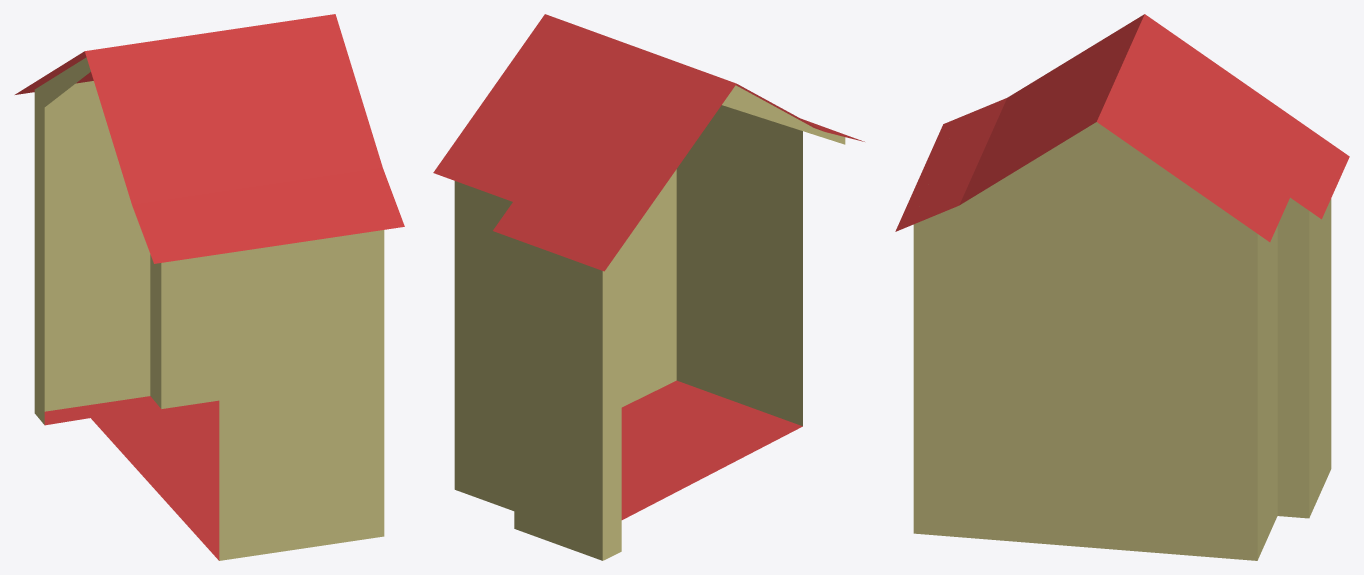
3 views of the same model, side by side, from view 1: azimuth 30°, elevation 25°; view 2: azimuth 150°, elevation 25°; view 3: azimuth 270°, elevation 25° (orthographic). The views are drawn at different scales.
Size of the model in its own units: 10.36 by 14.44 by 15.18.
